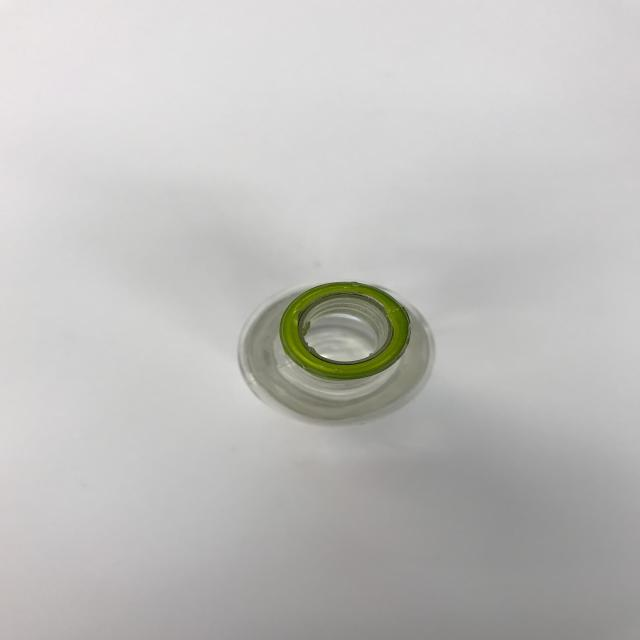glass: (238, 279, 437, 424)
